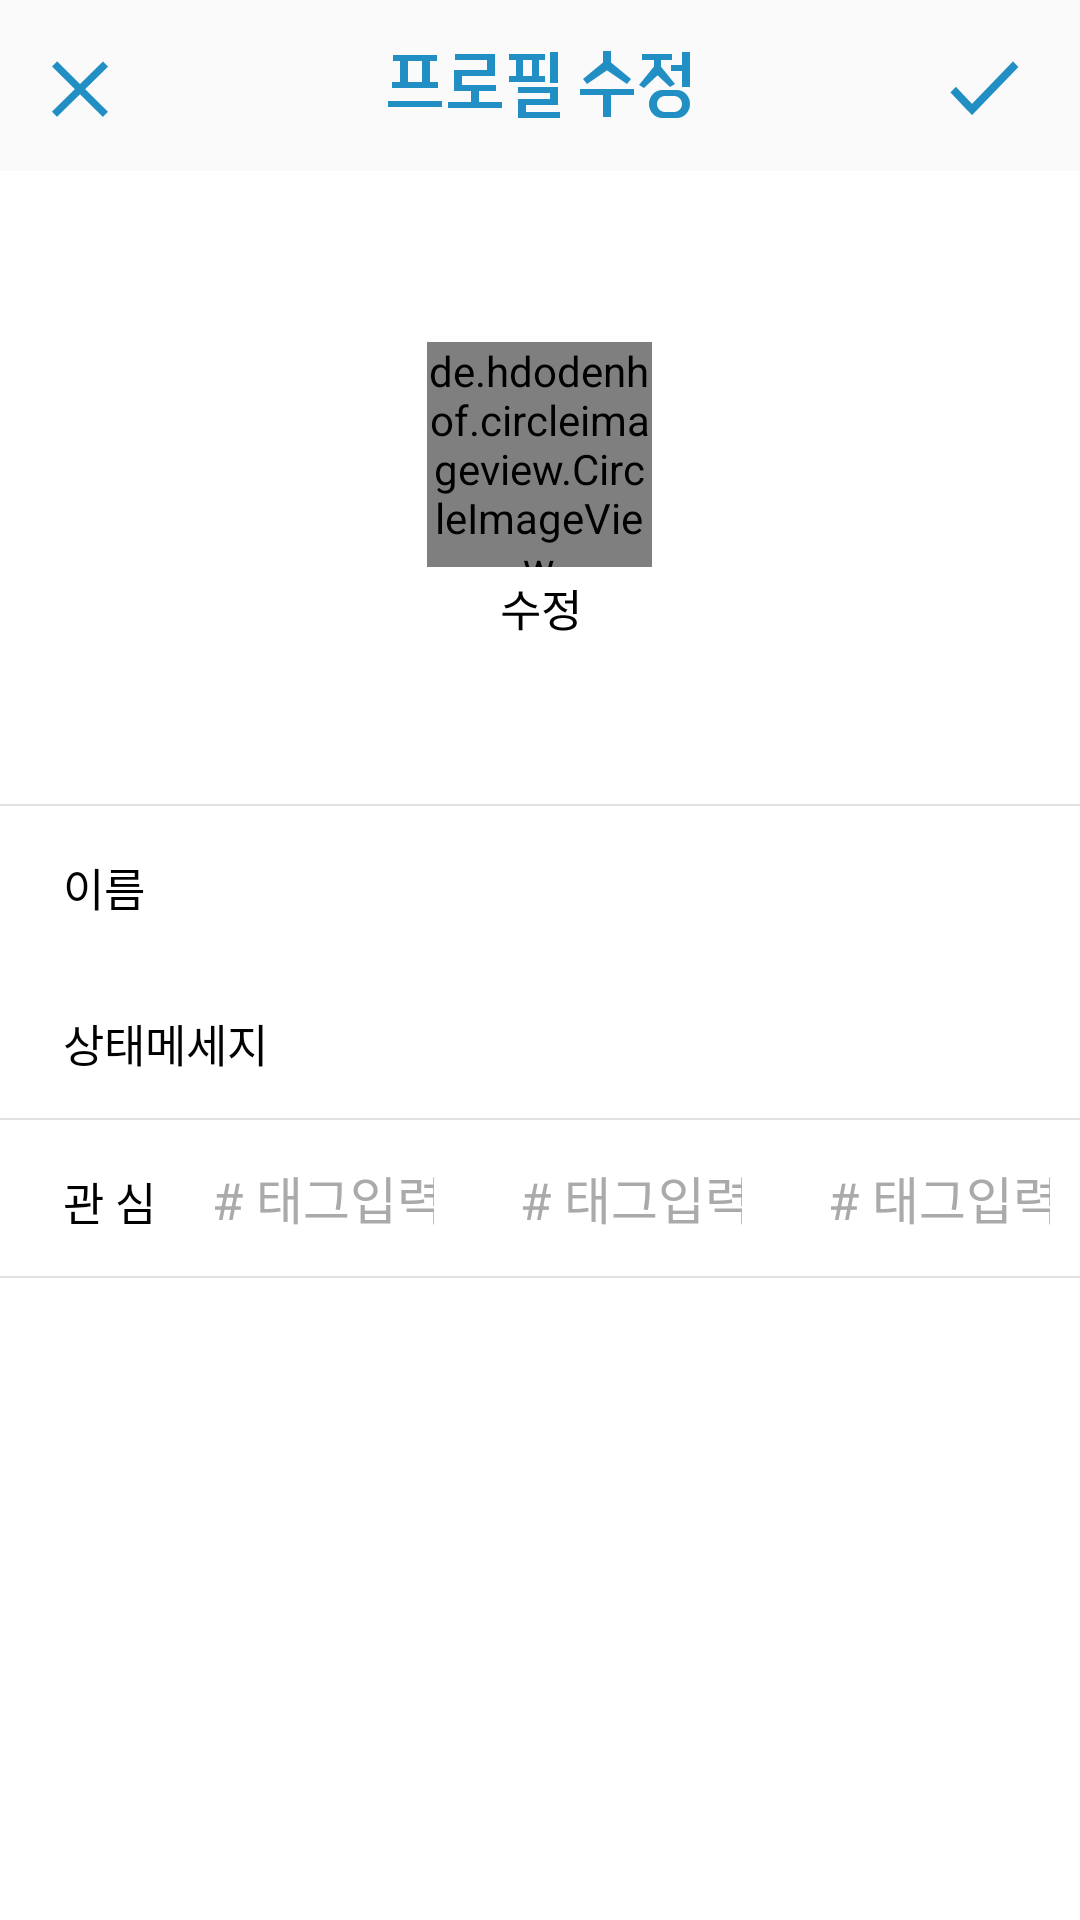

Where to tap for icons on this 1080px x 1920px app screen, as (x=x, y=y):
writing nav clear: (x=80, y=89)
writing nav done: (x=984, y=88)
